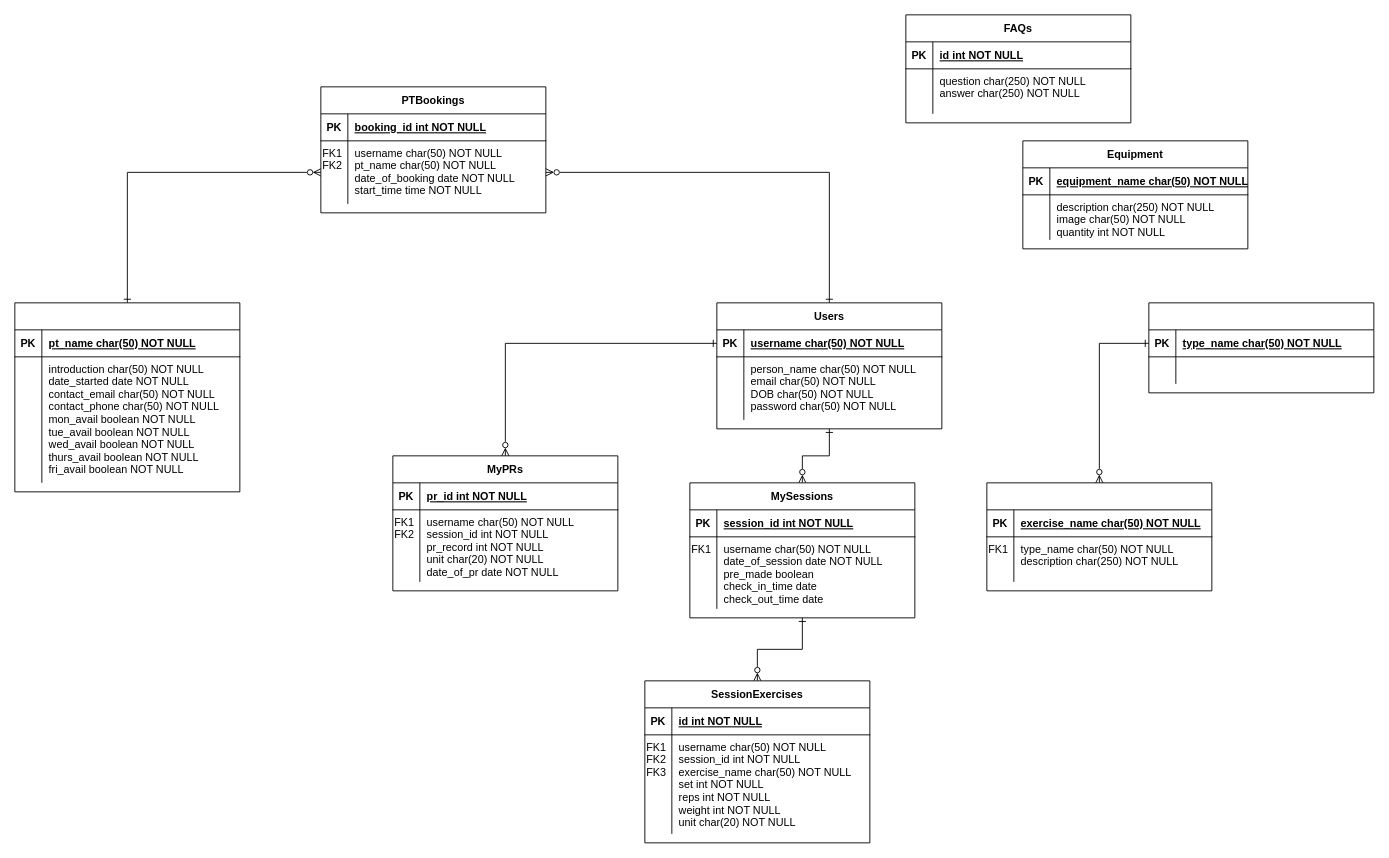
Image size: 1389x858. Some labels were removed from this diagram. Here are the shapes that lost their labels. From the top down, the box of each, then its label:
(1148, 302, 1374, 393): ExerciseTypes
(14, 302, 240, 492): PersonalTrainers
(986, 482, 1212, 591): Exercises
